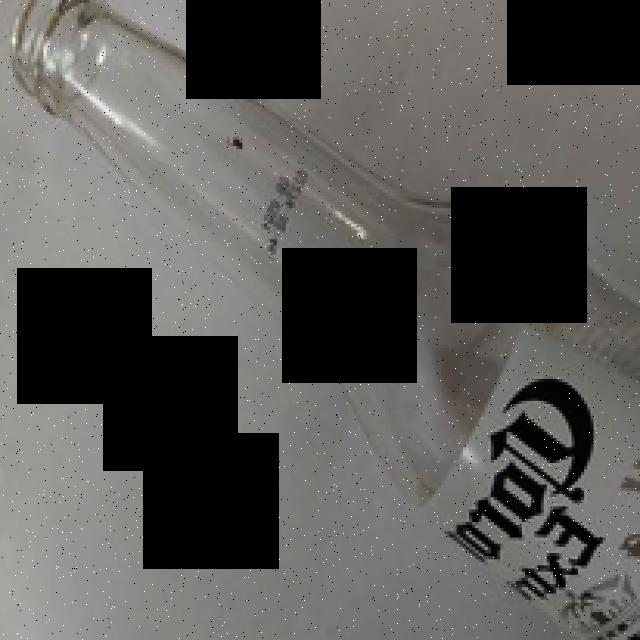glass-bottle: (11, 1, 640, 640)
